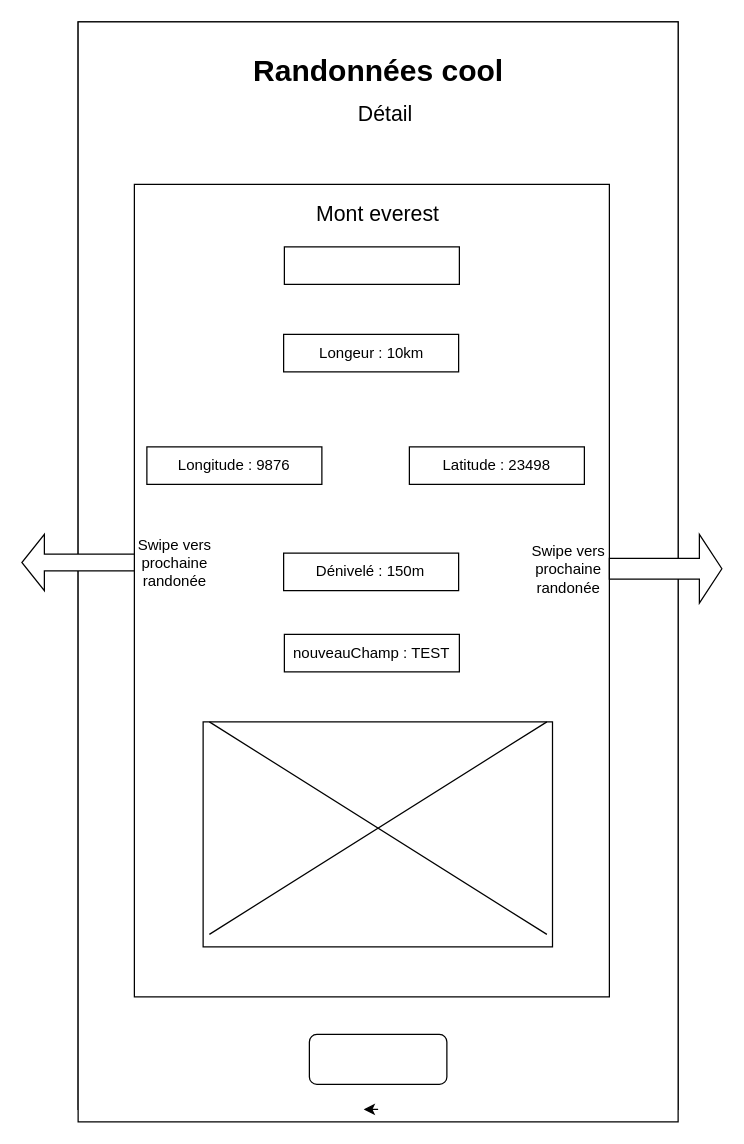
This 744x1144 diagram has some shape labels left out. Here are the shapes that lost their labels. From the top down, the box of each, then its label:
(283, 246, 459, 284): Difficulté : 1/10
(208, 721, 547, 934): GOOGLE MAP
(308, 1033, 447, 1084): Retour à la liste
